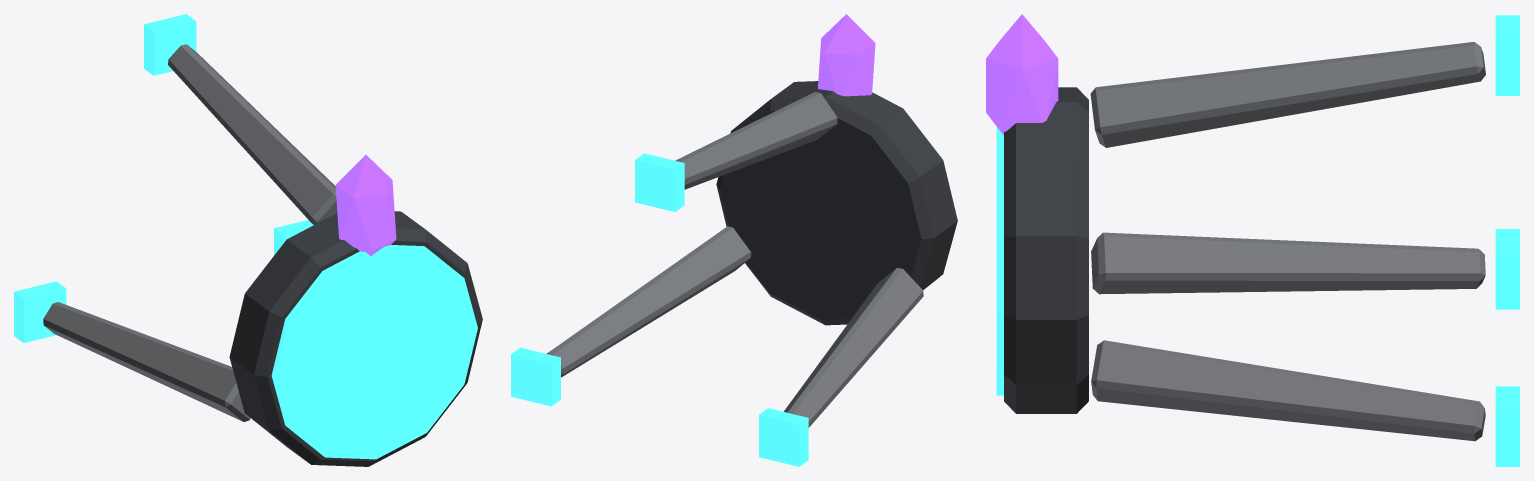
Rendered from TC_PLAYER_ArmClamp_V1.gltf.
The picture shows the model from 3 angles, left to right: view 1: azimuth 30°, elevation 25°; view 2: azimuth 150°, elevation 25°; view 3: azimuth 270°, elevation 25°; orthographic projection. The views are drawn at different scales.
Parts seen in each view (by area): view 1: TC_Clamp_CollarGlow, TC_Clamp_Collar, TC_Clamp_Prong_1, TC_Clamp_Prong_0, TC_Clamp_Component, TC_Clamp_Pad_0, TC_Clamp_Pad_1, TC_Clamp_Pad_2; view 2: TC_Clamp_Collar, TC_Clamp_Prong_2, TC_Clamp_Prong_1, TC_Clamp_Prong_0, TC_Clamp_Component, TC_Clamp_Pad_0, TC_Clamp_Pad_1, TC_Clamp_Pad_2; view 3: TC_Clamp_Collar, TC_Clamp_Prong_0, TC_Clamp_Prong_2, TC_Clamp_Prong_1, TC_Clamp_Component, TC_Clamp_CollarGlow, TC_Clamp_Pad_0, TC_Clamp_Pad_1, TC_Clamp_Pad_2.
Part boxes in pixels (x1,y1,x2,y2): TC_Clamp_CollarGlow: [271, 245, 477, 459]; TC_Clamp_Collar: [229, 211, 482, 466]; TC_Clamp_Prong_1: [43, 302, 250, 421]; TC_Clamp_Prong_0: [168, 44, 337, 224]; TC_Clamp_Component: [335, 155, 396, 256]; TC_Clamp_Pad_0: [144, 14, 196, 75]; TC_Clamp_Pad_1: [14, 281, 66, 342]; TC_Clamp_Pad_2: [274, 220, 313, 255]; TC_Clamp_Collar: [716, 81, 957, 325]; TC_Clamp_Prong_2: [547, 226, 751, 377]; TC_Clamp_Prong_1: [783, 268, 923, 427]; TC_Clamp_Prong_0: [675, 91, 837, 189]; TC_Clamp_Component: [818, 14, 875, 96]; TC_Clamp_Pad_0: [635, 153, 684, 211]; TC_Clamp_Pad_1: [759, 408, 808, 466]; TC_Clamp_Pad_2: [511, 347, 560, 406]; TC_Clamp_Collar: [1004, 87, 1088, 413]; TC_Clamp_Prong_0: [1090, 42, 1485, 147]; TC_Clamp_Prong_2: [1091, 340, 1485, 441]; TC_Clamp_Prong_1: [1091, 232, 1485, 294]; TC_Clamp_Component: [986, 14, 1058, 134]; TC_Clamp_CollarGlow: [996, 127, 1003, 395]; TC_Clamp_Pad_0: [1495, 15, 1519, 95]; TC_Clamp_Pad_1: [1495, 229, 1519, 309]; TC_Clamp_Pad_2: [1495, 386, 1519, 466].
Bounding box in the file's own units: 0.3566 × 0.35 × 0.4398.
